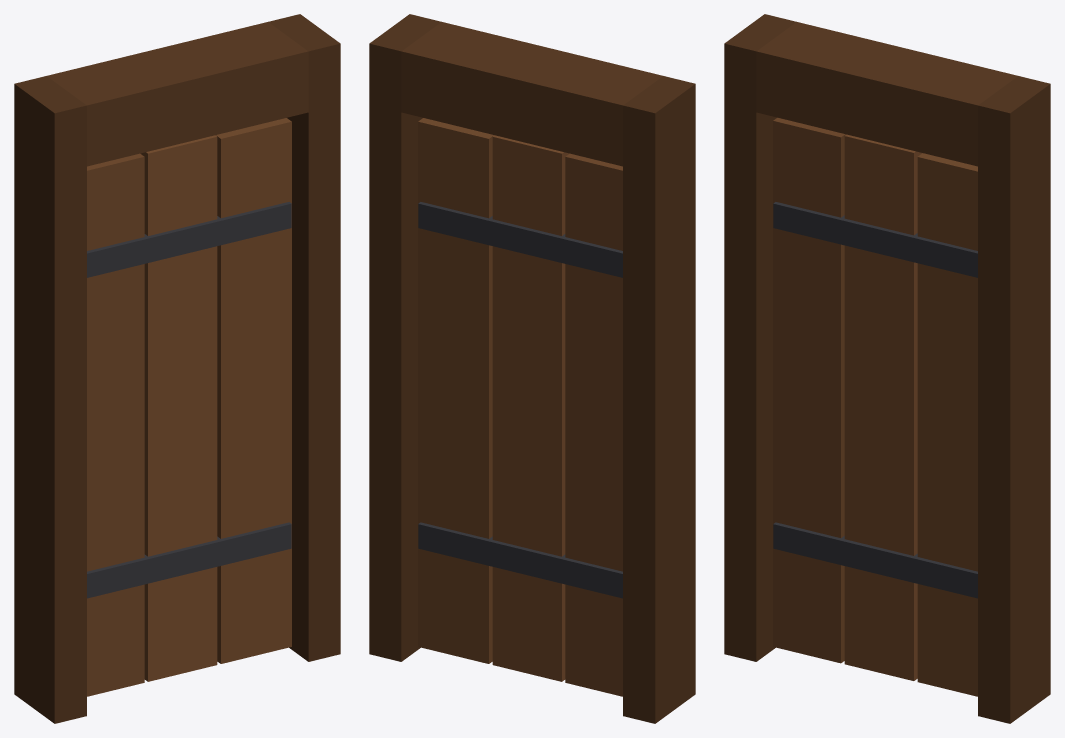
File: door.glb
3 views of the same model, side by side, from view 1: azimuth 30°, elevation 25°; view 2: azimuth 150°, elevation 25°; view 3: azimuth 330°, elevation 25° (orthographic).
Visible parts, largest first — view 1: door; view 2: door; view 3: door.
Part boxes in pixels (x1,y1,x2,y2): door: [14, 14, 340, 723]; door: [369, 14, 695, 723]; door: [724, 14, 1050, 723].
Bounding box in the file's own units: 0.98 × 2 × 0.24.
